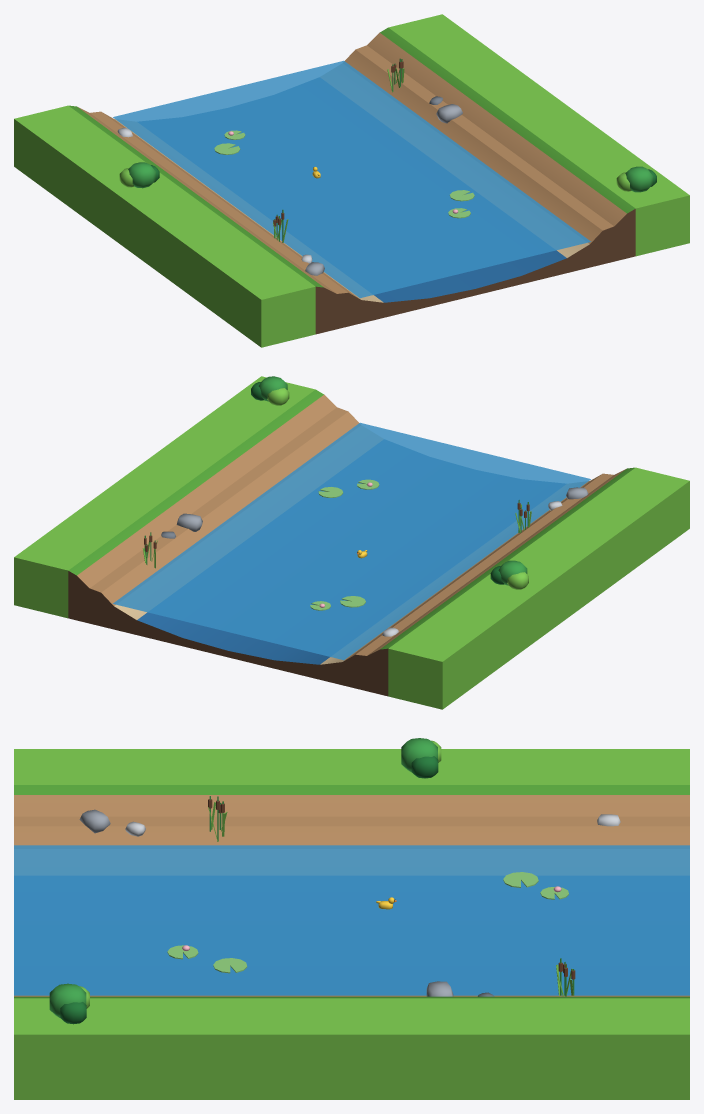
File: rio_reto.glb
The picture shows the model from 3 angles, top to bottom: view 1: azimuth 30°, elevation 25°; view 2: azimuth 150°, elevation 25°; view 3: azimuth 270°, elevation 25°; orthographic projection. The views are drawn at different scales.
Visible parts, largest first — view 1: rio_reto; view 2: rio_reto; view 3: rio_reto.
Boxes of the visible parts, box(x1,y1,x2,y2) form: rio_reto: box(14, 14, 689, 347); rio_reto: box(14, 376, 689, 709); rio_reto: box(14, 738, 689, 1099).
Size of the model in its own units: 15 by 2.25 by 15.
Materials: 2 (1 with a texture image).
